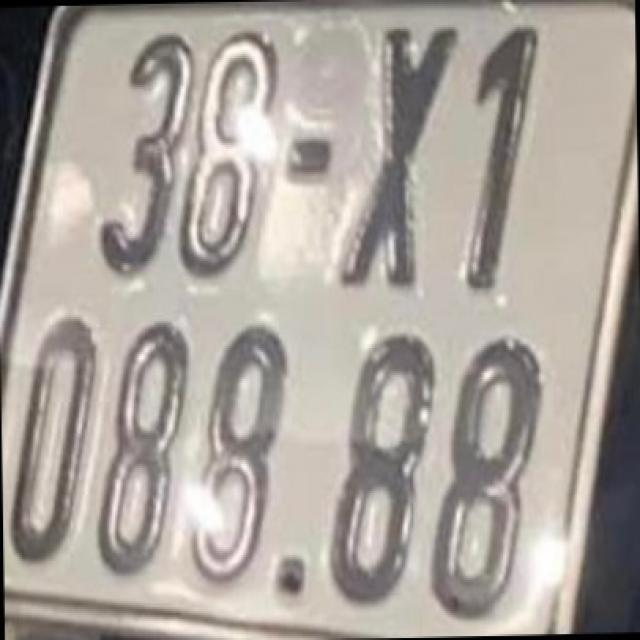0: (5, 313, 96, 565)
1: (457, 19, 546, 296)
3: (91, 28, 191, 276)
8: (428, 327, 546, 620), (324, 321, 436, 609), (189, 317, 289, 586), (176, 25, 272, 280), (96, 315, 186, 578)
X: (334, 12, 454, 296)
